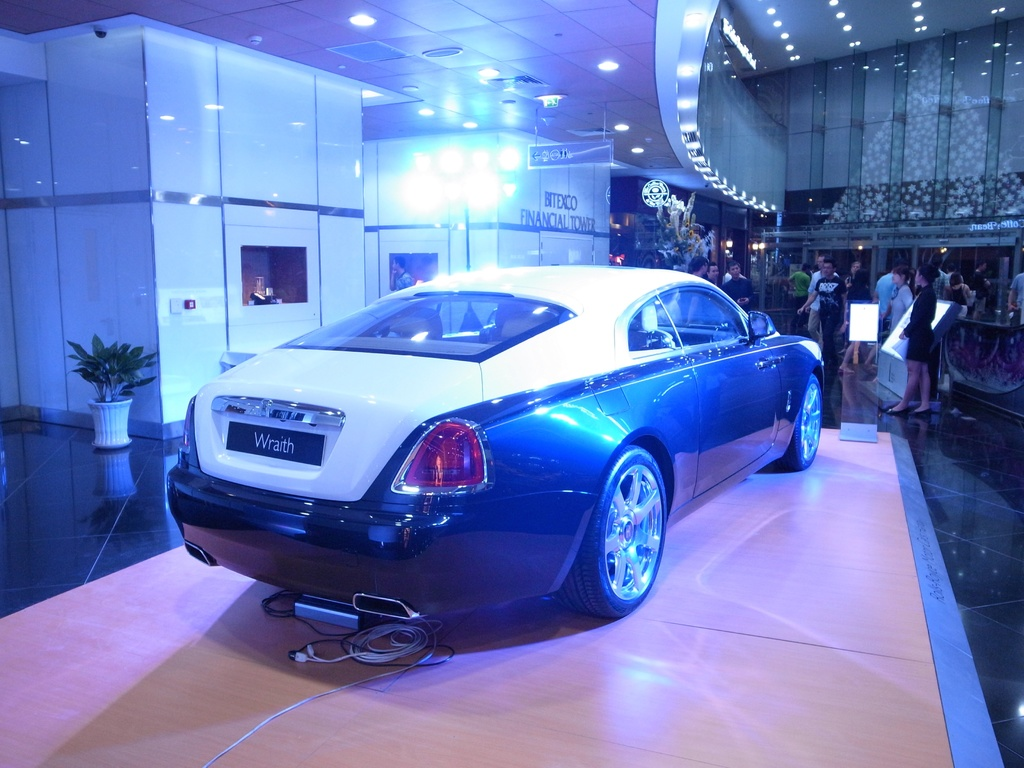Car: (159, 257, 828, 613)
